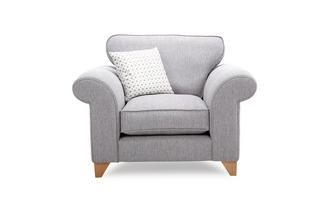chairs: (71, 32, 258, 179)
